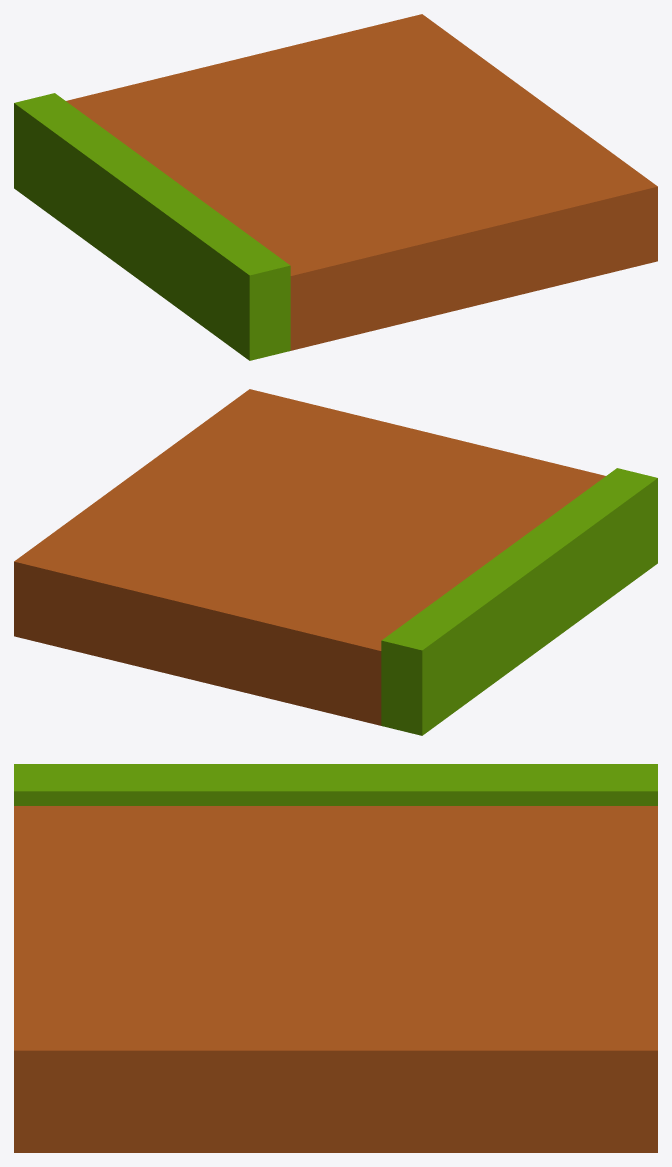
File: TileGround_12.fbx
3 renders of one model, top to bottom at view 1: azimuth 30°, elevation 25°; view 2: azimuth 150°, elevation 25°; view 3: azimuth 270°, elevation 25°, orthographic. The views are drawn at different scales.
Parts seen in each view (by area): view 1: TileGround_12; view 2: TileGround_12; view 3: TileGround_12.
Part boxes in pixels (bbox=[...]): TileGround_12: bbox=[14, 14, 657, 360]; TileGround_12: bbox=[14, 389, 657, 735]; TileGround_12: bbox=[14, 764, 657, 1152].
Bounding box in the file's own units: 500 × 100 × 500.
